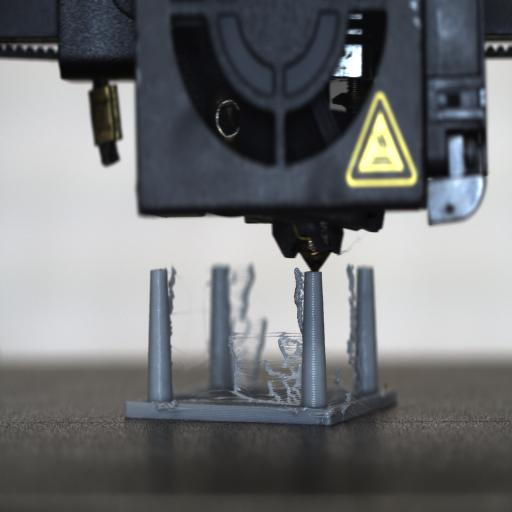stringing: (229, 270, 302, 412)
